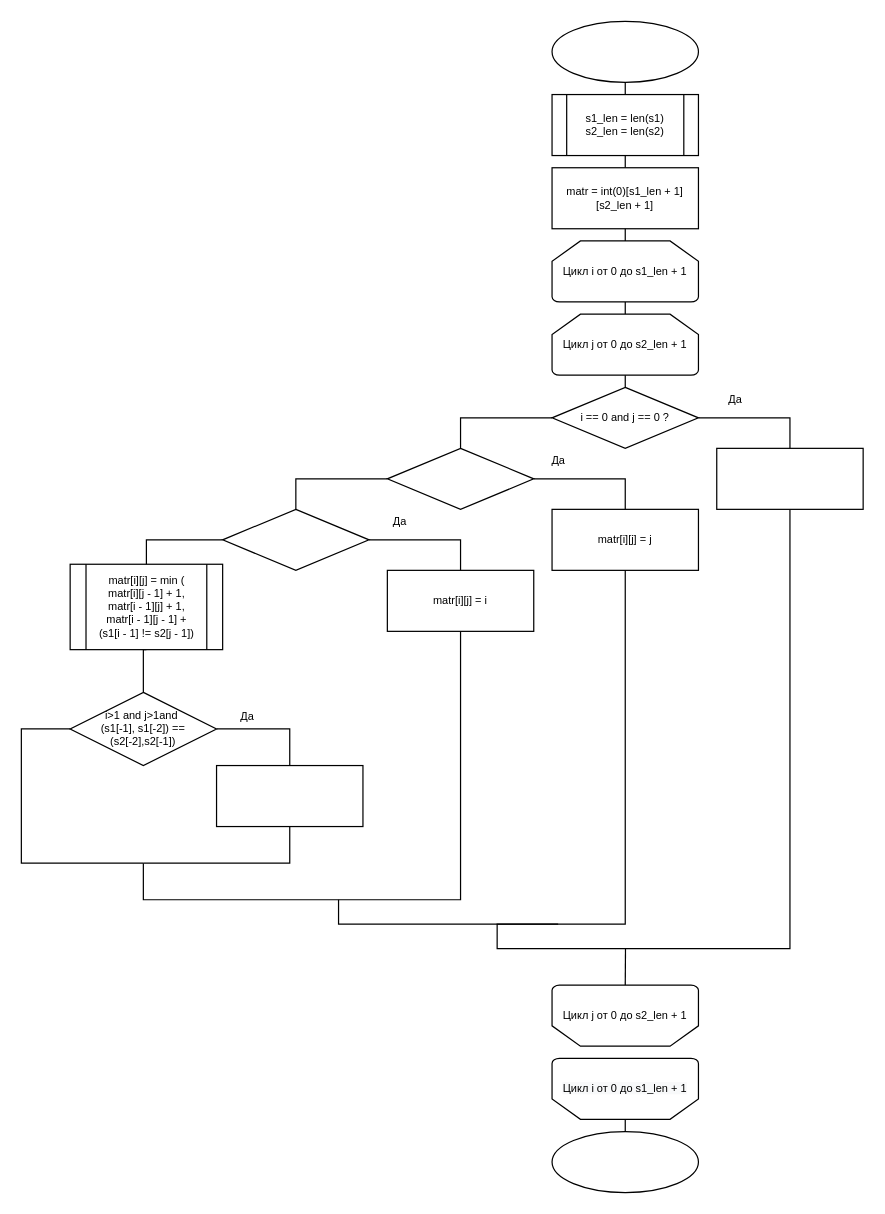
Image size: 885x1214. Some labels were removed from this diagram. The shapes that lost their labels are listed below. From the top down, each one's centre as x and y in pixels, then its label:
At [624,51]: "string: s1, s2".
At [460,478]: "i == 0 and j > 0?".
At [789,478]: "matr[i][j] = 0".
At [295,539]: "i > 0 and j == 0?".
At [289,795]: "matr[i][j] = min( matr[i][j], matr[i - 2][j - 2] + 1)".
At [624,1161]: "matr[s1_len][s2_len]".
